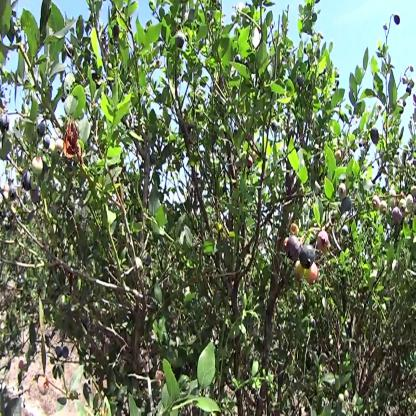intermediate: (372, 195, 388, 215), (306, 264, 317, 286), (31, 187, 43, 206), (295, 263, 305, 283), (319, 232, 329, 251), (290, 223, 300, 237), (335, 148, 342, 165)
mature: (284, 235, 301, 260), (301, 245, 316, 270), (392, 206, 403, 225), (175, 33, 185, 51), (372, 124, 380, 146), (23, 172, 32, 190), (37, 122, 47, 138), (1, 114, 9, 133), (342, 197, 351, 212), (44, 135, 52, 148), (10, 189, 18, 201), (248, 156, 254, 167)
young: (399, 194, 413, 215), (32, 157, 44, 175), (49, 136, 56, 158), (338, 184, 347, 200), (56, 139, 65, 154), (338, 392, 350, 402)
